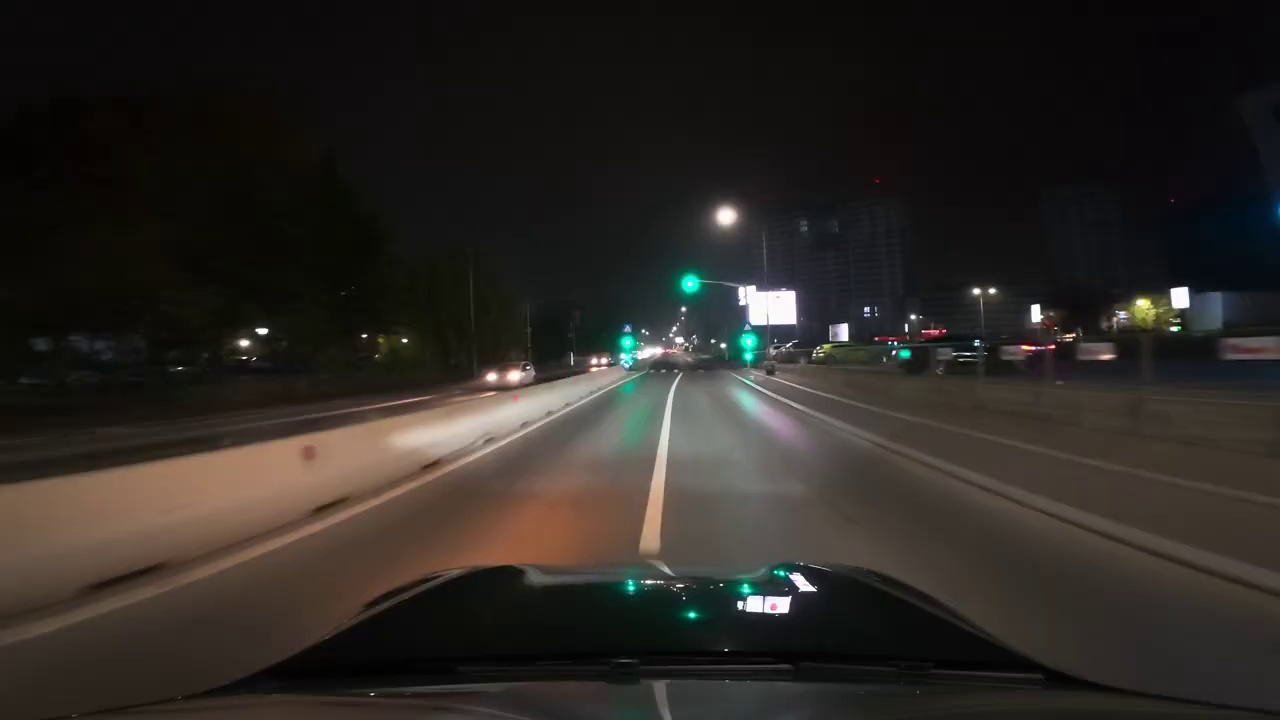acesa: (712, 204, 740, 231)
